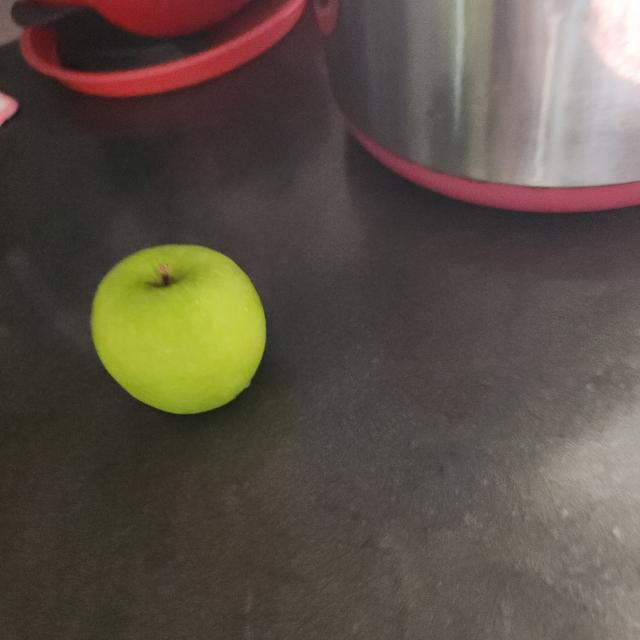apple: (88, 238, 276, 422)
